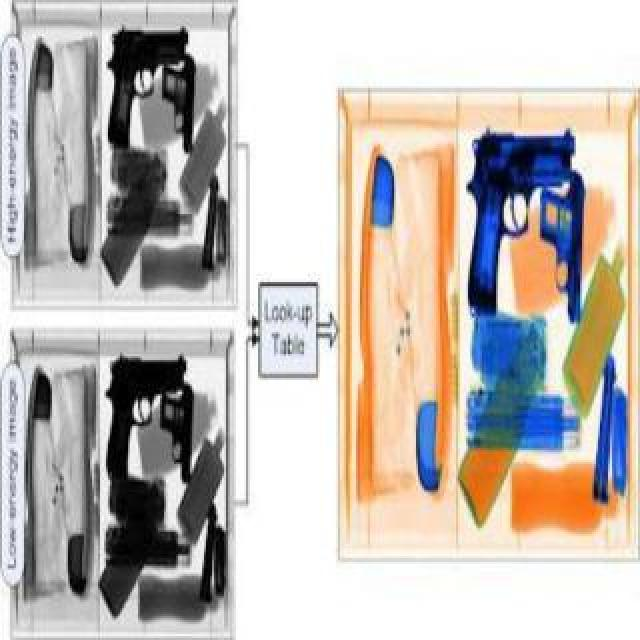gun: (464, 118, 576, 308), (100, 344, 190, 476), (102, 16, 190, 144)
